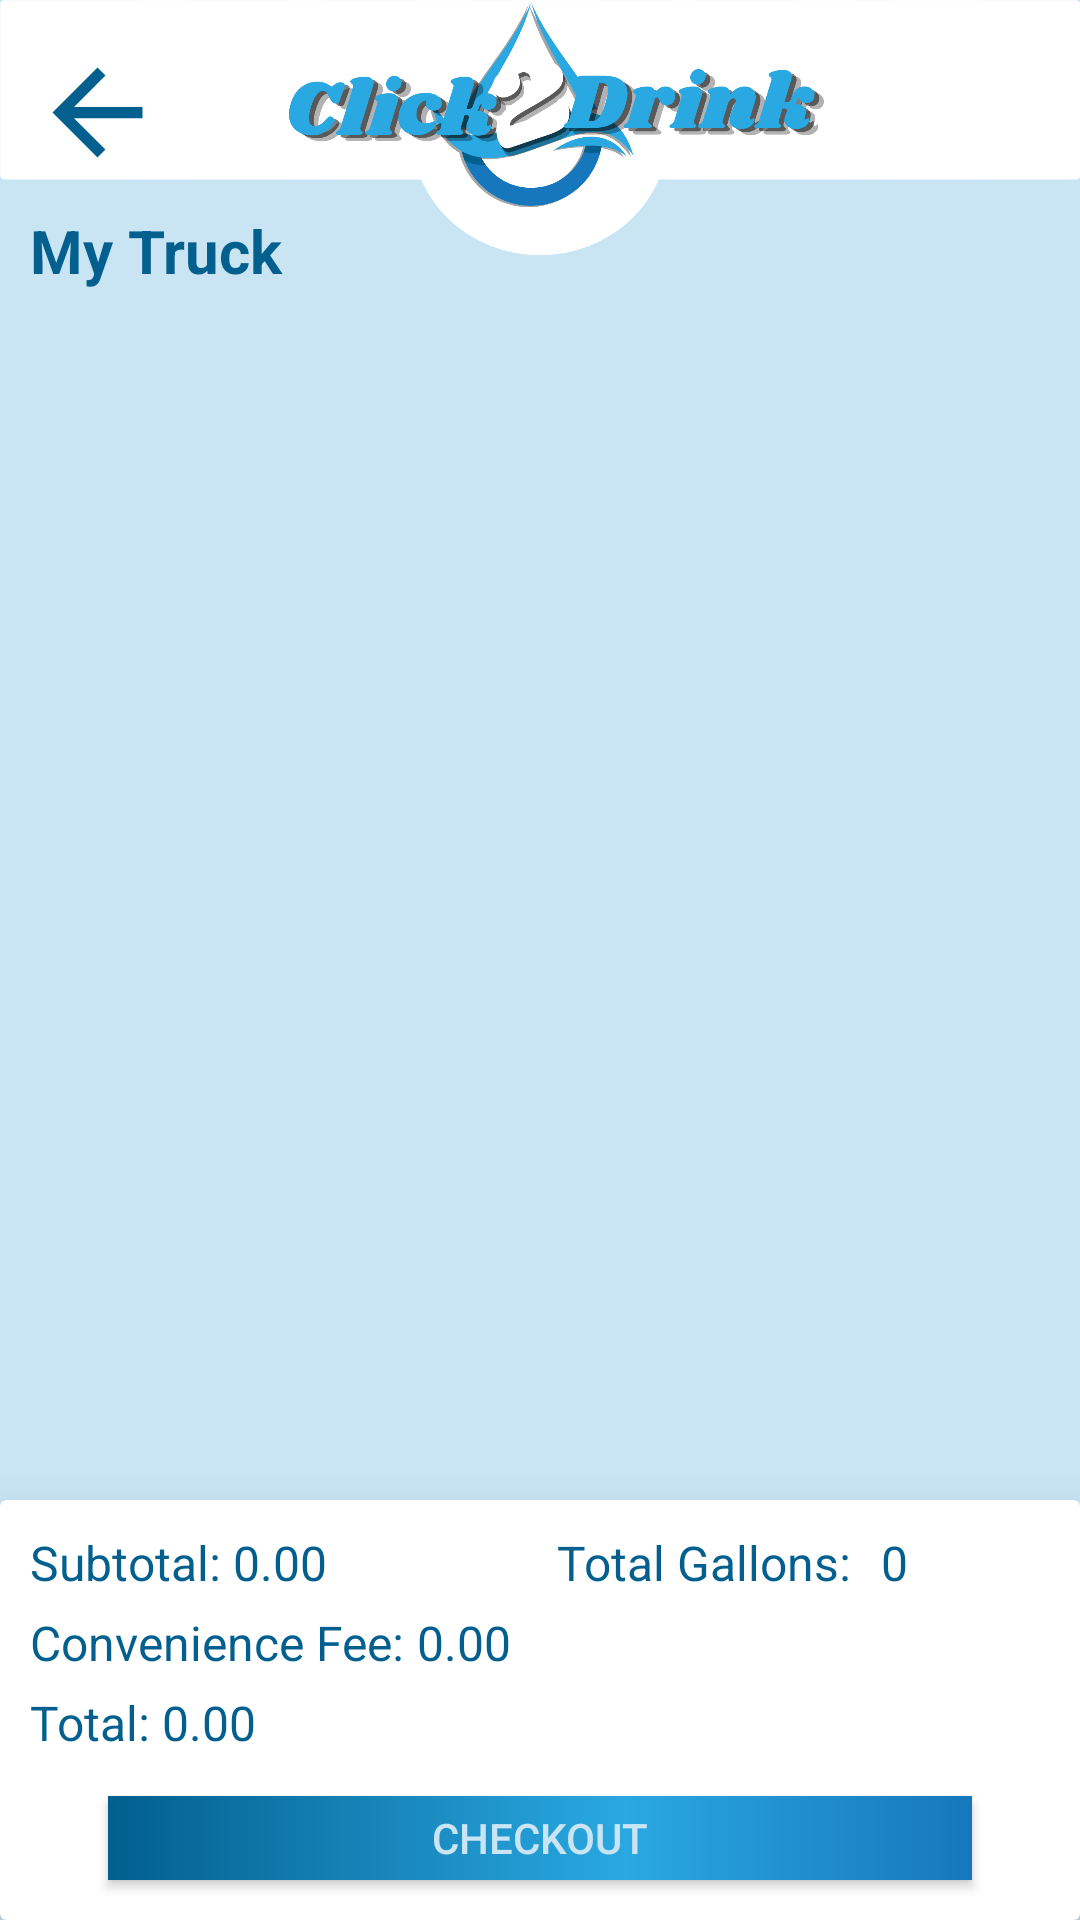

Icons on this 1080x1920 Android screen, each with the point to tap as (x=x, y=y):
back: (x=97, y=112)
